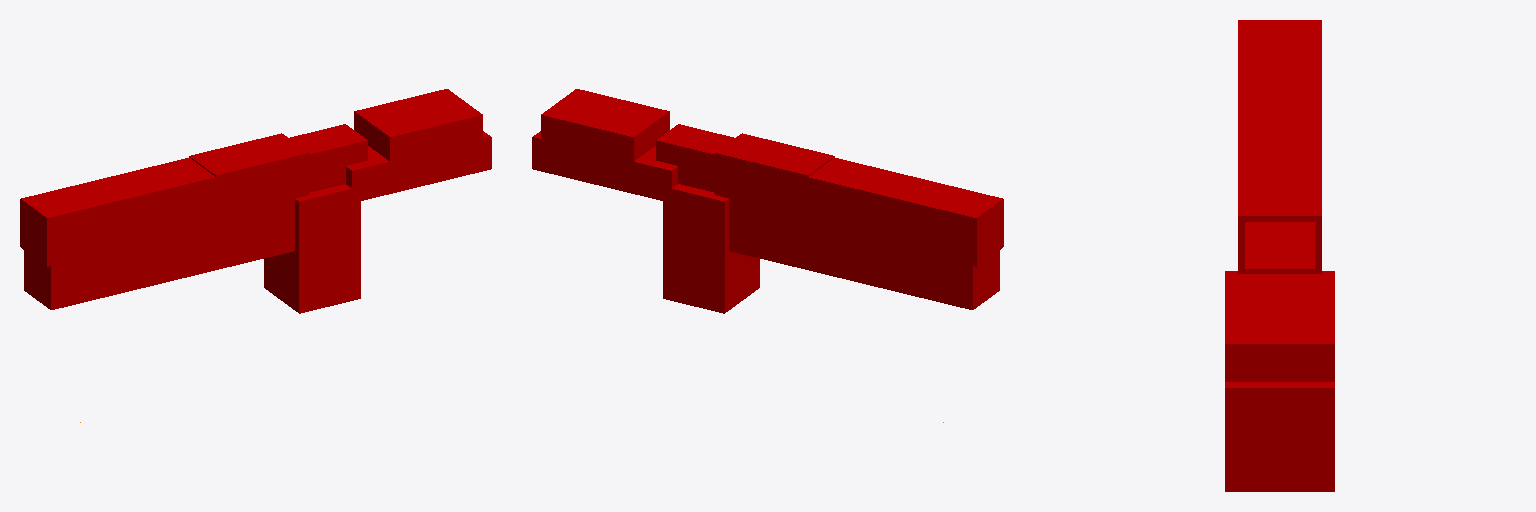
The robot description file, URDF, robot "b1z1_description":
<?xml version='1.0' encoding='utf-8'?>
<robot name="b1z1_description">
  <material name="black">
    <color rgba="0.0 0.0 0.0 1.0" />
  </material>
  <material name="blue">
    <color rgba="0.0 0.0 0.8 1.0" />
  </material>
  <material name="green">
    <color rgba="0.0 0.8 0.0 1.0" />
  </material>
  <material name="grey">
    <color rgba="0.2 0.2 0.2 1.0" />
  </material>
  <material name="silver">
    <color rgba="0.9137254901960784 0.9137254901960784 0.8470588235294118 1.0" />
  </material>
  <material name="orange">
    <color rgba="0.12 0.15 0.2 1.0" />
  </material>
  <material name="brown">
    <color rgba="0.8705882352941177 0.8117647058823529 0.7647058823529411 1.0" />
  </material>
  <material name="red">
    <color rgba="0.8 0.0 0.0 1.0" />
  </material>
  <material name="white">
    <color rgba="1.0 1.0 1.0 1.0" />
  </material>
  <link name="base">
    <visual>
      <origin rpy="0 0 0" xyz="0 0 0" />
      <geometry>
        <box size="0.001 0.001 0.001" />
      </geometry>
    </visual>
  </link>
  <joint name="floating_base" type="fixed" dont_collapse="true">
    <origin rpy="0 0 0" xyz="0 0 0" />
    <parent link="base" />
    <child link="trunk" />
  </joint>
  <link name="trunk">
    <visual>
      <origin rpy="0 0 0" xyz="0 0 0" />
      <geometry>
        <mesh filename="../meshes/trunk.dae" scale="1 1 1" />
      </geometry>
      <material name="orange" />
    </visual>
    <collision>
      <origin rpy="0 0 0" xyz="0 0 0" />
      <geometry>
        <box size="0.647 0.3 0.15" />
      </geometry>
    </collision>
    <inertial>
      <origin rpy="0 0 0" xyz="0.008987 0.002243 0.003013" />
      <mass value="25" />
      <inertia ixx="0.183142146" ixy="-0.001379002" ixz="-0.027956055" iyy="0.756327752" iyz="0.000193774" izz="0.783777558" />
    </inertial>
  </link>
  <joint name="base_static_joint" type="fixed">
    <origin rpy="0 0 0" xyz="0.3 0 0.09" />
    <parent link="base" />
    <child link="link00" />
  </joint>
  <link name="link00">
    <visual>
      <origin rpy="0 0 0" xyz="0 0 0.04" />
      <geometry>
        <box size="0.08 0.08 0.08" />
      </geometry>
      <material name="red" />
    </visual>
    <visual>
      <origin rpy="1.5707963267948966 0 0" xyz="0 0 0" />
      <geometry>
        <mesh filename="../meshes/z1_Link00.dae" scale="1 1 1" />
      </geometry>
    </visual>
    <collision>
      <geometry>
        <cylinder length="0.03" radius="0.0325" />
      </geometry>
      <origin rpy="0 0 0" xyz="0 0 0.0255" />
    </collision>
    <inertial>
      <origin rpy="1.5707963267948966 0 0" xyz="-0.00334984 -0.00013615 0.02495843" />
      <mass value="0.47247481" />
      <inertia ixx="0.00037937" ixy="3.5e-07" ixz="1.037e-05" iyy="0.00041521" iyz="9.9e-07" izz="0.00053066" />
    </inertial>
  </link>
  <joint name="z1_waist" type="revolute">
    <origin rpy="0 0 0" xyz="0 0 0.0585" />
    <parent link="link00" />
    <child link="link01" />
    <axis xyz="0 0 1" />
    <dynamics damping="1.0" friction="1.0" />
    <limit effort="30.0" lower="-2.6179938779914944" upper="2.6179938779914944" velocity="10" />
  </joint>
  <link name="link01">
    <visual>
      <origin rpy="0 0 0" xyz="0 0 0.04" />
      <geometry>
        <box size="0.08 0.08 0.08" />
      </geometry>
      <material name="red" />
    </visual>
    <visual>
      <origin rpy="1.5707963267948966 0 0" xyz="0 0 0" />
      <geometry>
        <mesh filename="../meshes/z1_Link01.dae" scale="1 1 1" />
      </geometry>
    </visual>
    <inertial>
      <origin rpy="1.5707963267948966 0 0" xyz="2.47e-06 -0.00025198 0.02317169" />
      <mass value="0.67332551" />
      <inertia ixx="0.00128328" ixy="6e-08" ixz="4e-07" iyy="0.00071931" iyz="-5e-07" izz="0.00083936" />
    </inertial>
  </link>
  <joint name="z1_shoulder" type="revolute">
    <origin rpy="0 0 0" xyz="0 0 0.045" />
    <parent link="link01" />
    <child link="link02" />
    <axis xyz="0 1 0" />
    <dynamics damping="2.0" friction="2.0" />
    <limit effort="60.0" lower="0.0" upper="3.141592653589793" velocity="10" />
  </joint>
  <link name="link02">
    <visual>
      <origin rpy="0 0 0" xyz="-0.18 0 0" />
      <geometry>
        <box size="0.35 0.06 0.06" />
      </geometry>
      <material name="red" />
    </visual>
    <visual>
      <origin rpy="1.5707963267948966 0 0" xyz="0 0 0" />
      <geometry>
        <mesh filename="../meshes/z1_Link02.dae" scale="1 1 1" />
      </geometry>
    </visual>
    <collision>
      <geometry>
        <cylinder length="0.102" radius="0.02" />
      </geometry>
      <origin rpy="1.5707963267948966 0 0" xyz="0 0 0" />
    </collision>
    <collision>
      <geometry>
        <cylinder length="0.235" radius="0.0225" />
      </geometry>
      <origin rpy="0 1.5707963267948966 0" xyz="-0.16249999999999998 0 0" />
    </collision>
    <collision>
      <geometry>
        <cylinder length="0.051" radius="0.0325" />
      </geometry>
      <origin rpy="1.5707963267948966 0 0" xyz="-0.35 0 0" />
    </collision>
    <inertial>
      <origin rpy="1.5707963267948966 0 0" xyz="-0.11012601 0.00240029 0.00158266" />
      <mass value="1.19132258" />
      <inertia ixx="0.00102138" ixy="-0.00062358" ixz="-5.13e-06" iyy="0.02429457" iyz="2.1e-06" izz="0.02466114" />
    </inertial>
  </link>
  <joint name="z1_elbow" type="revolute">
    <origin rpy="0 0 0" xyz="-0.35 0 0" />
    <parent link="link02" />
    <child link="link03" />
    <axis xyz="0 1 0" />
    <dynamics damping="1.0" friction="1.0" />
    <limit effort="30.0" lower="-4.782202150464463" upper="0.0" velocity="10" />
  </joint>
  <link name="link03">
    <visual>
      <origin rpy="0 0 0" xyz="0.13 0 0.055" />
      <geometry>
        <box size="0.28 0.06 0.06" />
      </geometry>
      <material name="red" />
    </visual>
    <visual>
      <origin rpy="1.5707963267948966 0 0" xyz="0 0 0" />
      <geometry>
        <mesh filename="../meshes/z1_Link03.dae" scale="1 1 1" />
      </geometry>
    </visual>
    <collision>
      <geometry>
        <cylinder length="0.116" radius="0.02" />
      </geometry>
      <origin rpy="0 1.5707963267948966 0" xyz="0.128 0 0.055" />
    </collision>
    <collision>
      <geometry>
        <cylinder length="0.059" radius="0.0325" />
      </geometry>
      <origin rpy="0 1.5707963267948966 0" xyz="0.2205 0 0.055" />
    </collision>
    <inertial>
      <origin rpy="1.5707963267948966 0 0" xyz="0.10609208 -0.00541815 0.03476383" />
      <mass value="0.83940874" />
      <inertia ixx="0.00108061" ixy="8.669e-05" ixz="0.00208102" iyy="0.00954238" iyz="1.332e-05" izz="0.00886621" />
    </inertial>
  </link>
  <joint name="z1_wrist_angle" type="revolute">
    <origin rpy="0 0 0" xyz="0.218 0 0.057" />
    <parent link="link03" />
    <child link="link04" />
    <axis xyz="0 1 0" />
    <dynamics damping="1.0" friction="1.0" />
    <limit effort="30.0" lower="-1.7453292519943295" upper="1.5707963267948966" velocity="10" />
  </joint>
  <link name="link04">
    <visual>
      <origin rpy="0 0 0" xyz="0.05 0 0" />
      <geometry>
        <box size="0.12 0.06 0.06" />
      </geometry>
      <material name="red" />
    </visual>
    <visual>
      <origin rpy="1.5707963267948966 0 0" xyz="0 0 0" />
      <geometry>
        <mesh filename="../meshes/z1_Link04.dae" scale="1 1 1" />
      </geometry>
    </visual>
    <collision>
      <geometry>
        <cylinder length="0.073" radius="0.0325" />
      </geometry>
      <origin rpy="1.5707963267948966 0 0" xyz="0.0472 0 0" />
    </collision>
    <inertial>
      <origin rpy="1.5707963267948966 0 0" xyz="0.04366681 0.00364738 -0.00170192" />
      <mass value="0.56404563" />
      <inertia ixx="0.00031576" ixy="-8.13e-05" ixz="-4.091e-05" iyy="0.00092996" iyz="5.96e-06" izz="0.00097912" />
    </inertial>
  </link>
  <joint name="z1_forearm_roll" type="revolute">
    <origin rpy="0 0 0" xyz="0.07 0.0 0.0" />
    <parent link="link04" />
    <child link="link05" />
    <axis xyz="0 0 1" />
    <dynamics damping="1.0" friction="1.0" />
    <limit effort="30.0" lower="-1.7278759594743864" upper="1.7278759594743864" velocity="10" />
  </joint>
  <link name="link05">
    <visual>
      <origin rpy="0 0 0" xyz="0.04 0 0" />
      <geometry>
        <box size="0.10 0.05 0.05" />
      </geometry>
      <material name="red" />
    </visual>
    <visual>
      <origin rpy="1.5707963267948966 0 0" xyz="0 0 0" />
      <geometry>
        <mesh filename="../meshes/z1_Link05.dae" scale="1 1 1" />
      </geometry>
    </visual>
    <inertial>
      <origin rpy="1.5707963267948966 0 0" xyz="0.03121533 0.0 0.00646316" />
      <mass value="0.38938492" />
      <inertia ixx="0.00017605" ixy="-4e-07" ixz="-5.689e-05" iyy="0.00055896" iyz="1.3e-07" izz="0.0005386" />
    </inertial>
  </link>
  <joint name="z1_wrist_rotate" type="revolute">
    <origin rpy="0 0 0" xyz="0.0492 0.0 0.0" />
    <parent link="link05" />
    <child link="link06" />
    <axis xyz="1 0 0" />
    <dynamics damping="1.0" friction="1.0" />
    <limit effort="30.0" lower="-2.792526803190927" upper="2.792526803190927" velocity="10" />
  </joint>
  <link name="link06">
    <visual>
      <origin rpy="0 0 0" xyz="0.03 0 0" />
      <geometry>
        <box size="0.08 0.05 0.05" />
      </geometry>
      <material name="red" />
    </visual>
    <visual>
      <origin rpy="1.5707963267948966 0 0" xyz="0 0 0" />
      <geometry>
        <mesh filename="../meshes/z1_Link06.dae" scale="1 1 1" />
      </geometry>
    </visual>
    <collision>
      <geometry>
        <cylinder length="0.051" radius="0.0325" />
      </geometry>
      <origin rpy="0 1.5707963267948966 0" xyz="0.0255 0 0" />
    </collision>
    <inertial>
      <origin rpy="1.5707963267948966 0 0" xyz="0.0241569 -0.00017355 -0.00143876" />
      <mass value="0.28875807" />
      <inertia ixx="0.00018328" ixy="-1.22e-06" ixz="-5.4e-07" iyy="0.0001475" iyz="-8e-08" izz="0.0001468" />
    </inertial>
  </link>
  <joint name="z1_gripperStator" type="fixed">
    <origin rpy="0 0 0" xyz="0.051 0.0 0.0" />
    <parent link="link06" />
    <child link="gripperStator" />
  </joint>
  <link name="gripperStator">
    <visual>
      <origin rpy="0 0 0" xyz="0.08 0 -0.02" />
      <geometry>
        <box size="0.18 0.08 0.04" />
      </geometry>
      <material name="red" />
    </visual>
    <visual>
      <origin rpy="1.5707963267948966 0 0" xyz="0 0 0" />
      <geometry>
        <mesh filename="../meshes/z1_GripperStator.dae" scale="1 1 1" />
      </geometry>
    </visual>
    <collision>
      <origin rpy="1.5707963267948966 0 0" xyz="0 0 0" />
      <geometry>
        <mesh filename="../meshes/z1_GripperStator.dae" scale="1 1 1" />
      </geometry>
    </collision>
    <inertial>
      <origin rpy="1.5707963267948966 0 0" xyz="0.04764427 -0.00035819 -0.00249162" />
      <mass value="0.52603655" />
      <inertia ixx="0.00038683" ixy="3.59e-06" ixz="-7.662e-05" iyy="0.00068614" iyz="-2.09e-06" izz="0.00066293" />
    </inertial>
  </link>
  <joint name="z1_jointGripper" type="revolute">
    <origin rpy="0 0 0" xyz="0.049 0.0 0" />
    <parent link="gripperStator" />
    <child link="gripperMover" />
    <axis xyz="0 1 0" />
    <dynamics damping="1.0" friction="1.0" />
    <limit effort="30.0" lower="-1.5707963267948966" upper="0.0" velocity="10" />
  </joint>
  <link name="gripperMover">
    <visual>
      <origin rpy="0 0 0" xyz="0.05 0 0.01" />
      <geometry>
        <box size="0.12 0.08 0.04" />
      </geometry>
      <material name="red" />
    </visual>
    <visual>
      <origin rpy="1.5707963267948966 0 0" xyz="0 0 0" />
      <geometry>
        <mesh filename="../meshes/z1_GripperMover.dae" scale="1 1 1" />
      </geometry>
    </visual>
    <collision>
      <origin rpy="1.5707963267948966 0 0" xyz="0 0 0" />
      <geometry>
        <mesh filename="../meshes/z1_GripperMover.dae" scale="1 1 1" />
      </geometry>
    </collision>
    <inertial>
      <origin rpy="1.5707963267948966 0 0" xyz="0.01320633 0.00476708 0.00380534" />
      <mass value="0.27621302" />
      <inertia ixx="0.00017716" ixy="-1.683e-05" ixz="1.786e-05" iyy="0.00026787" iyz="-2.62e-06" izz="0.00035728" />
    </inertial>
  </link>
  <joint name="ee_gripper" type="fixed" dont_collapse="true">
    <axis xyz="1 0 0" />
    <origin rpy="0 0 0" xyz="0.135 0 0" />
    <parent link="gripperStator" />
    <child link="ee_gripper_link" />
  </joint>
  <link name="ee_gripper_link">
    <inertial>
      <mass value="0.001" />
      <inertia ixx="0.001" ixy="0" ixz="0" iyy="0.001" iyz="0" izz="0.001" />
    </inertial>
  </link>
</robot>

--- Render facts (derived) ---
3 views of the same robot in one strip: view 1: azimuth 30°, elevation 25°; view 2: azimuth 150°, elevation 25°; view 3: azimuth 270°, elevation 25° (orthographic).
Robot: b1z1_description — 12 links, 11 joints (7 revolute, 4 fixed); root link base; default pose: every joint at zero.
Links seen in each view (by area): view 1: link03, link02, gripperMover, link04, link00, link01, gripperStator, link06, link05; view 2: link03, link02, gripperMover, link04, gripperStator, link00, link01, link06, link05; view 3: gripperMover, link03, link04, gripperStator, link00, link06, link05.
Boxes of the visible links, x1,y1,x2,y2 form: link03: (20, 158, 263, 266); link02: (24, 203, 294, 309); gripperMover: (354, 89, 482, 169); link04: (189, 133, 308, 221); link00: (264, 235, 360, 313); link01: (285, 184, 360, 265); gripperStator: (346, 131, 491, 201); link06: (289, 124, 367, 192); link05: (309, 146, 344, 190); link03: (760, 158, 1003, 266); link02: (729, 203, 999, 309); gripperMover: (541, 89, 669, 169); link04: (715, 133, 834, 220); gripperStator: (532, 131, 677, 202); link00: (663, 240, 759, 313); link01: (663, 184, 736, 265); link06: (656, 124, 734, 191); link05: (679, 146, 714, 192); gripperMover: (1225, 274, 1334, 381); link03: (1238, 20, 1321, 145); link04: (1238, 146, 1321, 273); gripperStator: (1225, 382, 1334, 438); link00: (1225, 439, 1334, 491); link06: (1245, 222, 1314, 273); link05: (1245, 222, 1314, 250).
Bounding box of the posed robot: 0.5682 × 0.08 × 0.281 m (x, y, z).
0 mesh visuals loaded from 10 distinct referenced files (none loaded); not drawn: 1 (reference not matched to a file when rendering), 9 (file found but could not be loaded).
